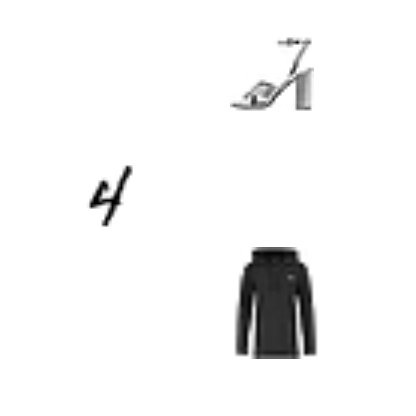2: (90, 91, 174, 175)
5: (102, 269, 116, 283)
7: (331, 219, 353, 241)
Bag: (235, 336, 263, 364)
Dress: (208, 26, 230, 48)
Pullover: (226, 143, 254, 171)
